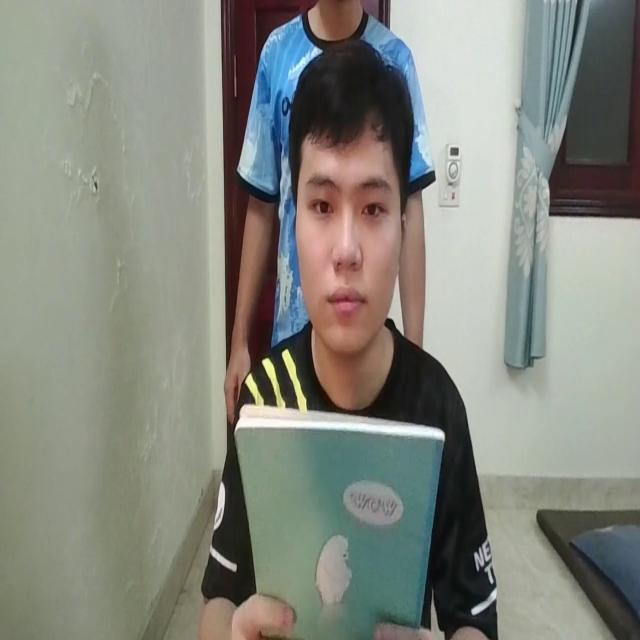book: (231, 388, 445, 640)
student: (203, 35, 496, 640)
